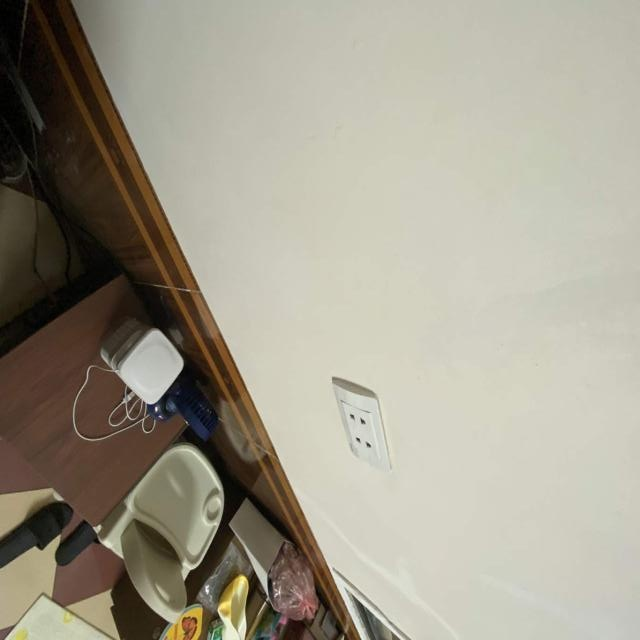outlet: (332, 377, 393, 472)
